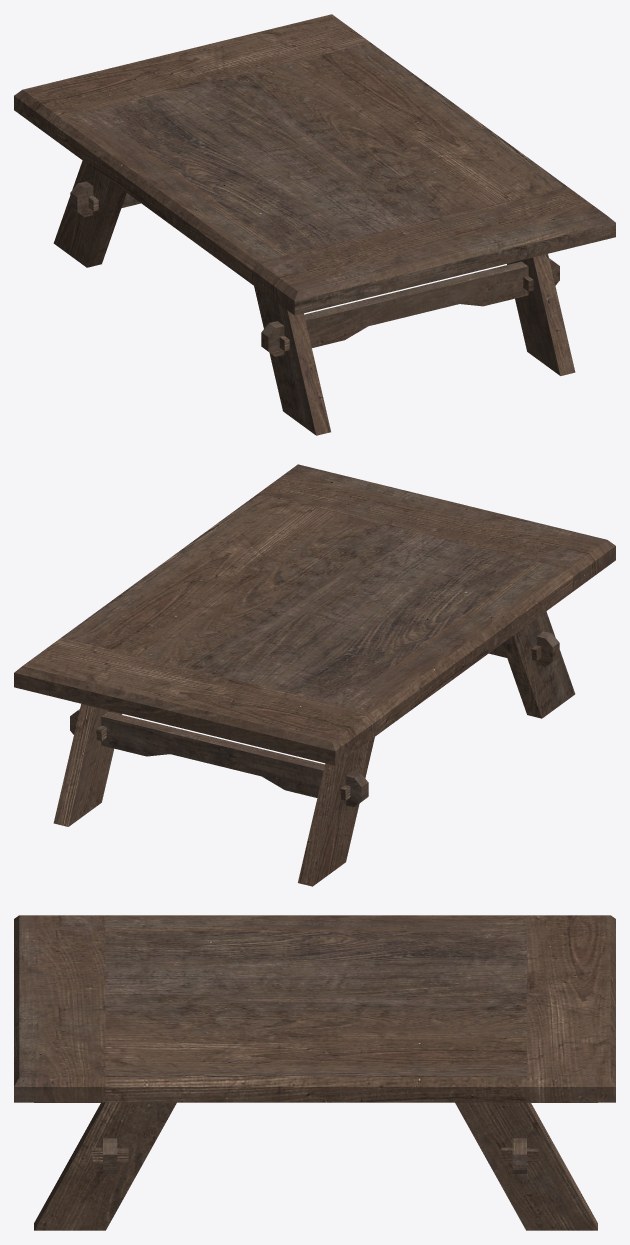
The model's file is mw_table_small_01.FBX.
The picture shows the model from 3 angles, top to bottom: view 1: azimuth 30°, elevation 25°; view 2: azimuth 150°, elevation 25°; view 3: azimuth 270°, elevation 25°; orthographic projection. The views are drawn at different scales.
Parts seen in each view (by area): view 1: mw_table_small_01; view 2: mw_table_small_01; view 3: mw_table_small_01.
Part boxes in pixels (x1=…): mw_table_small_01: x1=14, y1=14, x2=615, y2=435; mw_table_small_01: x1=14, y1=464, x2=615, y2=886; mw_table_small_01: x1=14, y1=915, x2=615, y2=1230.
Bounding box in the file's own units: 125 × 57.64 × 189.
